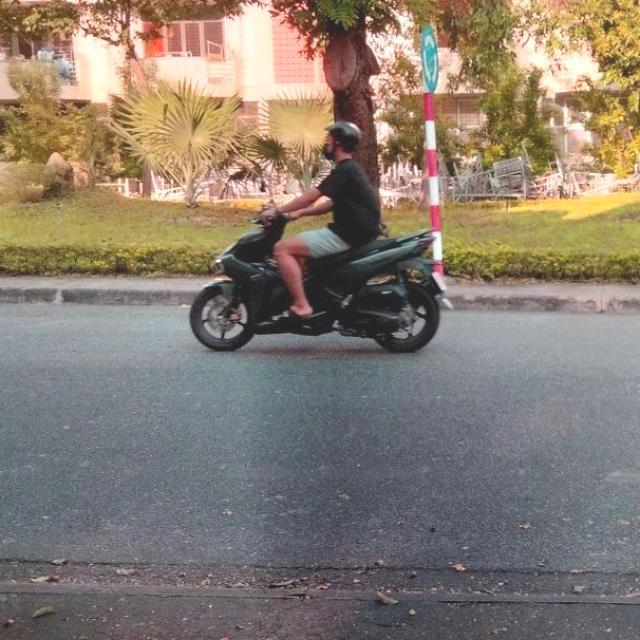Helmet: (318, 118, 362, 166)
